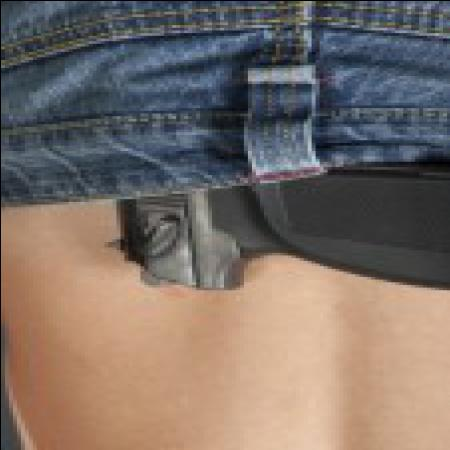Pistol: (96, 155, 446, 303)
